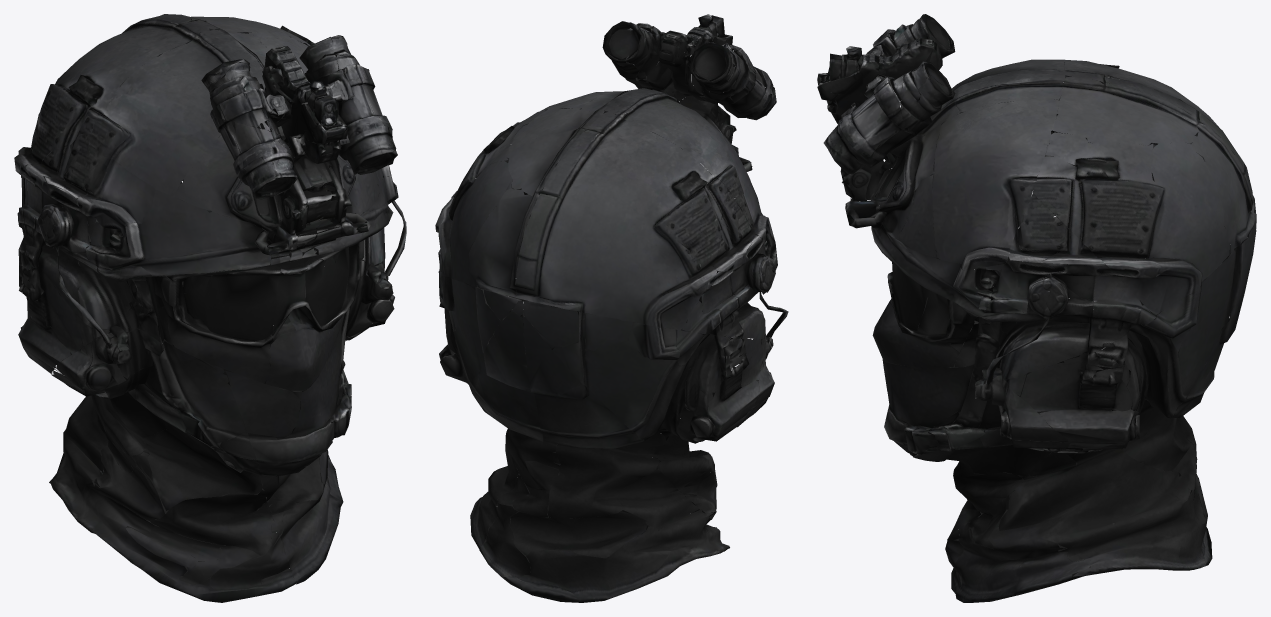
Rendered from p_head.fbx.
3 views of the same model, side by side, from view 1: azimuth 30°, elevation 25°; view 2: azimuth 150°, elevation 25°; view 3: azimuth 270°, elevation 25° (orthographic). The views are drawn at different scales.
Visible parts, largest first — view 1: Part; view 2: Part; view 3: Part.
Part boxes in pixels (box(x1,y1,x2,y2)): Part: box(14, 14, 406, 602); Part: box(435, 14, 788, 602); Part: box(817, 14, 1256, 602).
Bounding box in the file's own units: 0.273 × 0.42 × 0.3089.
